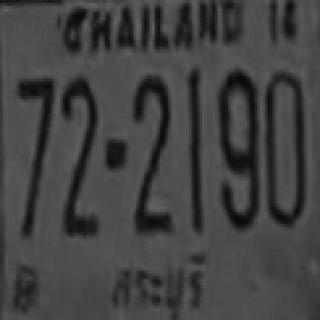N00: (267, 60, 312, 242)
N01: (185, 67, 209, 244)
N02: (127, 66, 178, 243), (58, 72, 106, 247)
N07: (11, 72, 58, 242)
N09: (214, 68, 264, 238)
P60: (100, 244, 216, 320)
